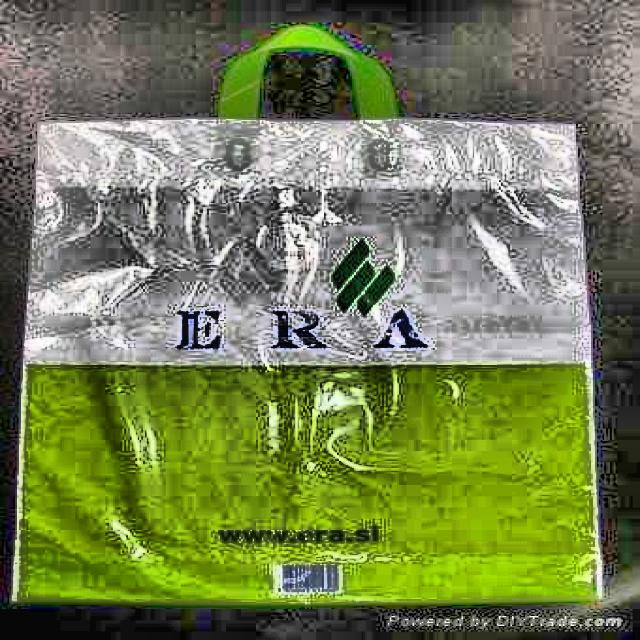Plastic: (0, 14, 624, 614)
